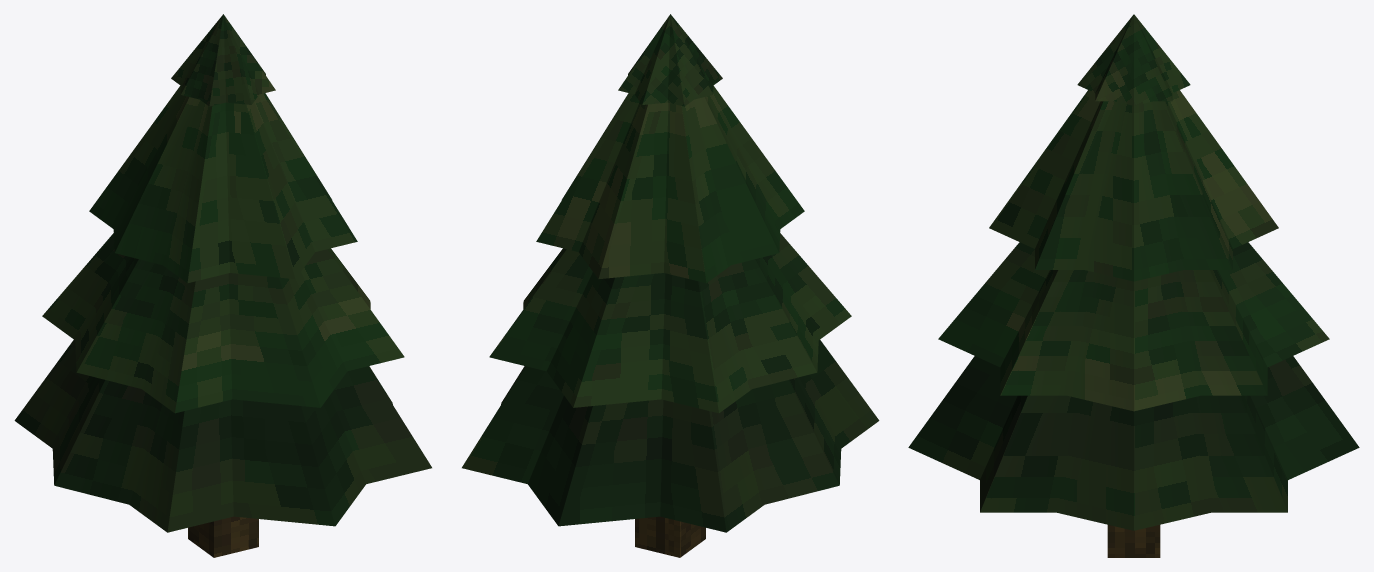
The model's file is Tree_2.fbx.
3 views of the same model, side by side, from view 1: azimuth 30°, elevation 25°; view 2: azimuth 150°, elevation 25°; view 3: azimuth 270°, elevation 25° (orthographic).
Parts seen in each view (by area): view 1: Tree_2; view 2: Tree_2; view 3: Tree_2.
Boxes of the visible parts, x1,y1,x2,y2 form: Tree_2: (14,14,431,557); Tree_2: (462,14,879,557); Tree_2: (908,14,1359,557).
Size of the model in its own units: 40.37 by 60.27 by 46.27.
